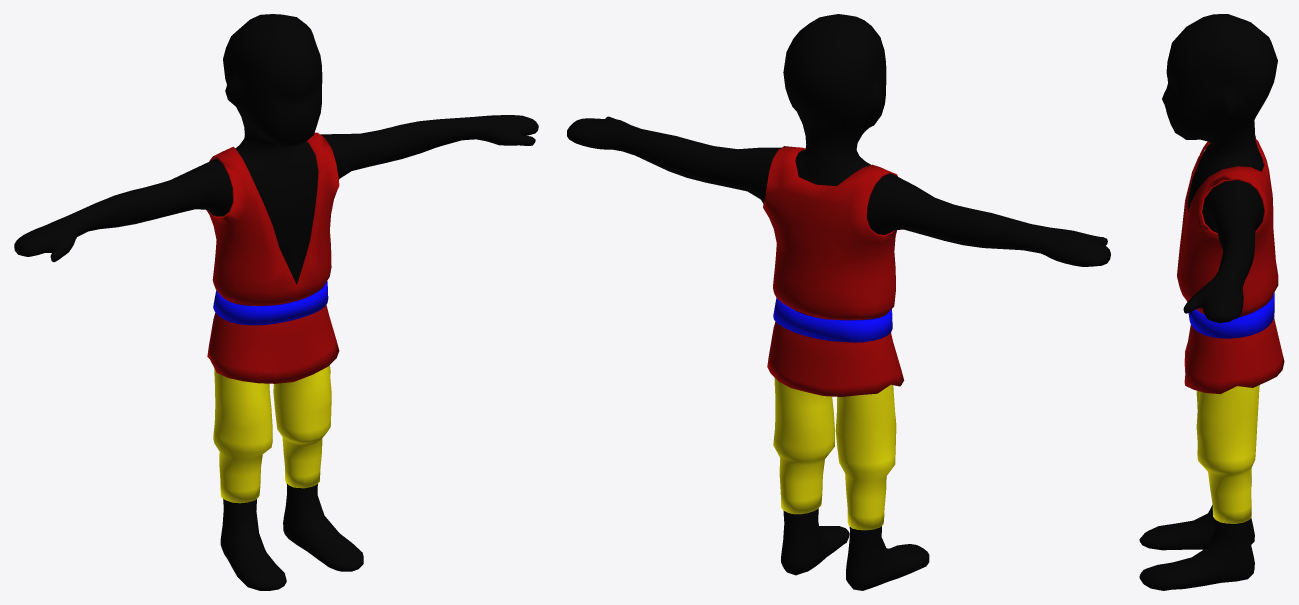
File: Miro-Final.fbx
3 views of the same model, side by side, from view 1: azimuth 30°, elevation 25°; view 2: azimuth 150°, elevation 25°; view 3: azimuth 270°, elevation 25° (orthographic). The views are drawn at different scales.
Visible parts, largest first — view 1: Miro_Body; view 2: Miro_Body; view 3: Miro_Body.
Part boxes in pixels (box(x1,y1,x2,y2)): Miro_Body: box(14, 14, 538, 590); Miro_Body: box(567, 14, 1110, 590); Miro_Body: box(1139, 14, 1284, 590).
Size of the model in its own units: 101 by 99.78 by 24.03.
